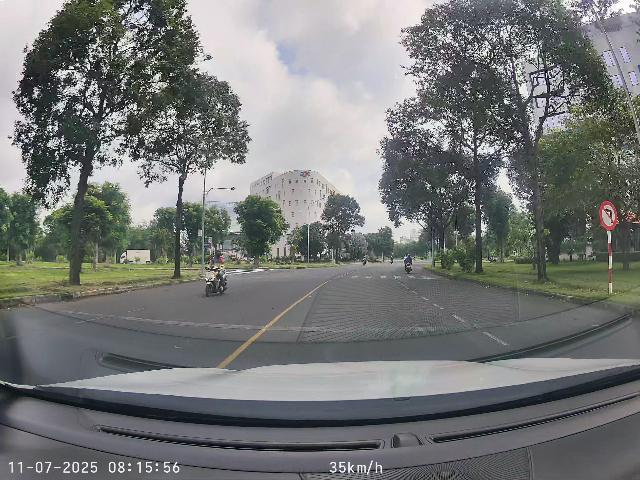123a-cam-re-trai: (599, 200, 617, 230)
